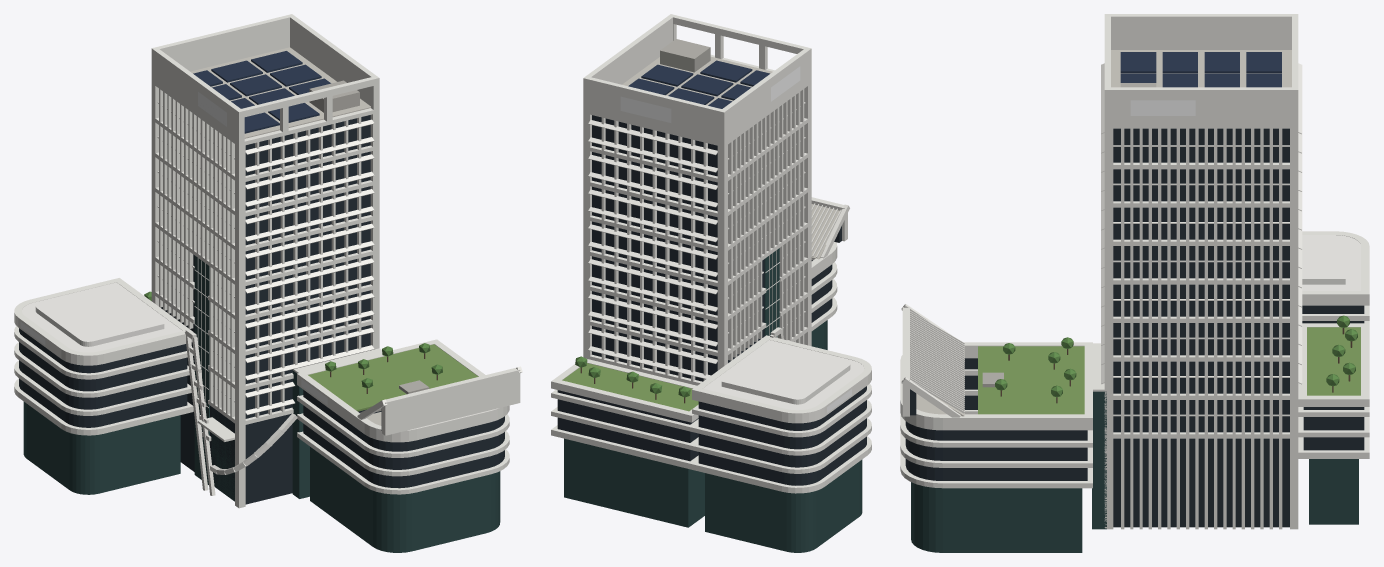
File: gucheong.glb
3 views of the same model, side by side, from view 1: azimuth 30°, elevation 25°; view 2: azimuth 150°, elevation 25°; view 3: azimuth 270°, elevation 25° (orthographic). The views are drawn at different scales.
Parts seen in each view (by area): view 1: frame, glass, frame@h, curtain@h, frame@c, curtain@c, glass@c, membrane@c, glass@h, solar, green@h, curtain (+3 smaller); view 2: frame, glass, frame@c, curtain, curtain@c, glass@c, membrane@c, solar, frame@h, green, mech, sign_gc (+4 smaller); view 3: frame, glass, frame@h, curtain@h, glass@h, green@h, solar, curtain, membrane@c, green, frame@c, roof (+4 smaller).
Part boxes in pixels (x1,y1,x2,y2): frame: (151,14,379,508); glass: (161,115,370,504); frame@h: (210,339,522,494); curtain@h: (292,370,500,552); frame@c: (14,278,215,495); curtain@c: (23,401,180,494); glass@c: (19,328,187,427); membrane@c: (22,282,182,352); glass@h: (303,390,504,488); solar: (193,51,330,133); green@h: (308,344,478,411); curtain: (194,255,234,501); frame: (551,14,811,469); glass: (557,115,764,461); frame@c: (692,327,871,493); curtain: (564,248,779,527); curtain@c: (705,459,862,552); glass@c: (698,386,866,485); membrane@c: (703,340,864,410); solar: (628,60,769,108); frame@h: (811,197,849,330); green: (562,363,698,411); mech: (660,39,710,72); sign_gc: (620,66,800,122); frame: (1101,14,1369,529); glass: (1113,128,1364,527); frame@h: (900,304,1104,488); curtain@h: (911,391,1106,552); glass@h: (905,358,1087,480); green@h: (978,346,1084,414); solar: (1120,52,1281,87); curtain: (1309,459,1358,524); membrane@c: (1302,235,1360,290); green: (1307,327,1360,395); frame@c: (1302,231,1369,323); roof: (1111,50,1291,87).
Size of the model in its own units: 74.69 by 91.4 by 88.4.
